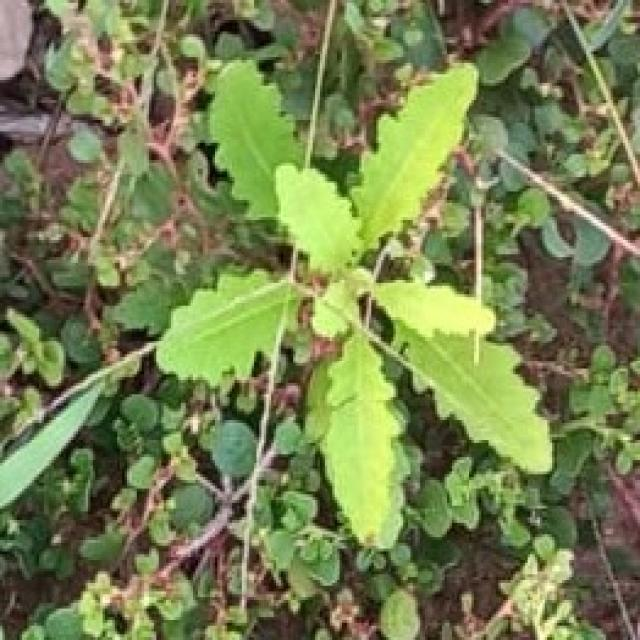weed: (156, 63, 552, 550)
